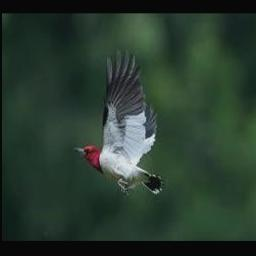Woodpecker: (74, 49, 167, 195)
